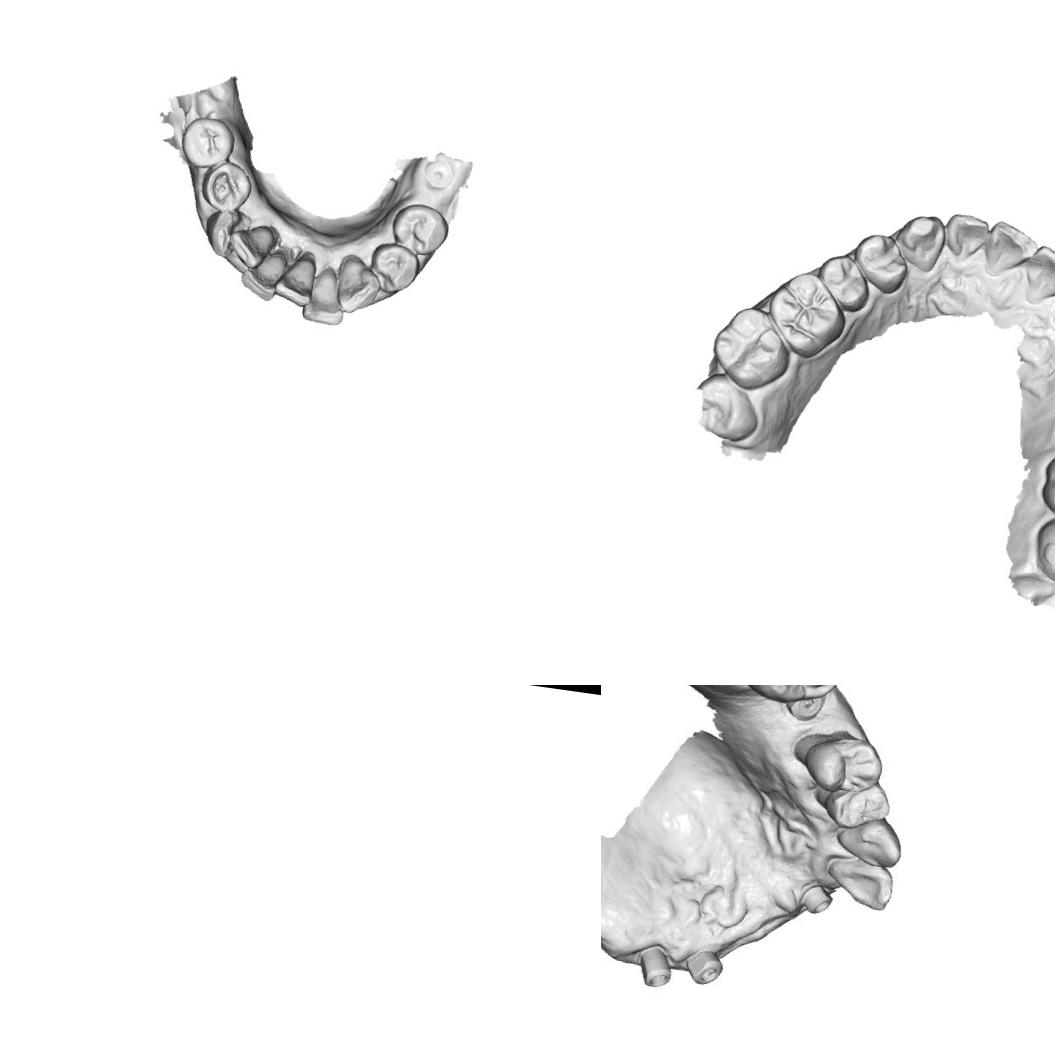canine: (830, 810, 908, 871), (890, 208, 950, 275), (331, 252, 386, 318), (201, 204, 250, 260)
implant: (633, 943, 677, 992), (680, 945, 726, 989), (784, 688, 829, 728), (420, 156, 458, 190)
incisor: (821, 853, 899, 914), (980, 217, 1042, 283), (237, 241, 292, 304), (299, 263, 351, 328), (271, 249, 319, 308), (940, 210, 992, 264), (225, 220, 278, 272), (1019, 240, 1055, 309)
molar: (761, 266, 853, 364), (706, 300, 798, 397), (688, 370, 766, 445), (730, 685, 853, 712), (1030, 510, 1055, 591), (1037, 446, 1055, 522)
premolar: (800, 728, 888, 802), (847, 229, 913, 299), (813, 250, 875, 315), (826, 777, 896, 834), (387, 200, 452, 258), (178, 113, 238, 172), (366, 238, 424, 297), (198, 158, 255, 216)
